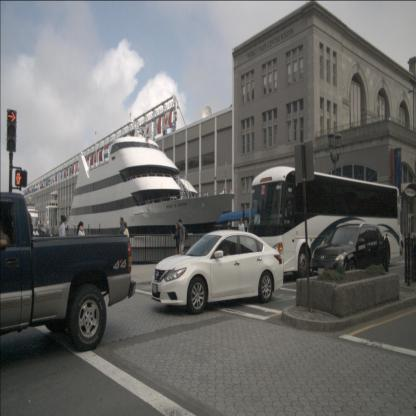human-pedestrian-adult: (58, 216, 67, 276), (171, 222, 182, 268), (178, 219, 188, 269), (76, 221, 85, 275), (122, 221, 130, 267), (118, 217, 125, 263), (224, 220, 232, 257), (238, 218, 245, 254)
vehicle-bus-rigid: (247, 166, 401, 281)
vehicle-car: (151, 229, 284, 316), (310, 223, 388, 281)
vehicle-truck: (0, 191, 136, 353)
